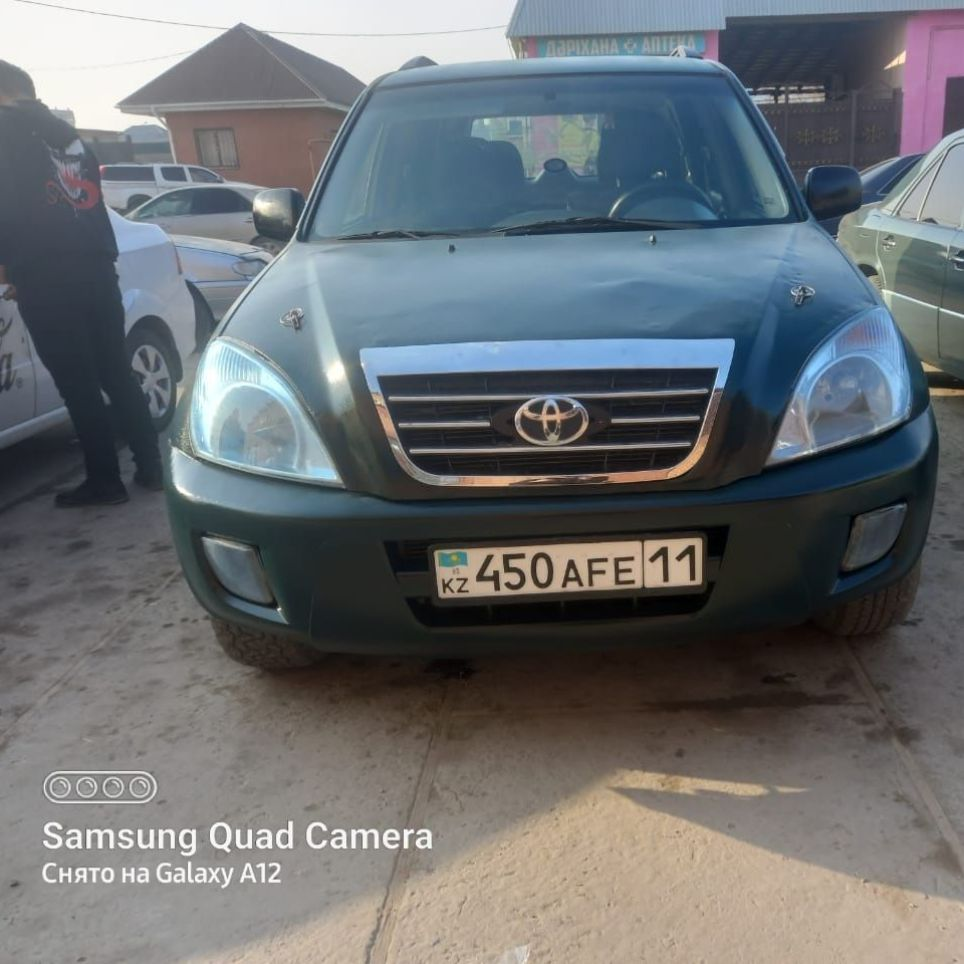license plate: (432, 536, 702, 602)
truck: (160, 50, 937, 666)
